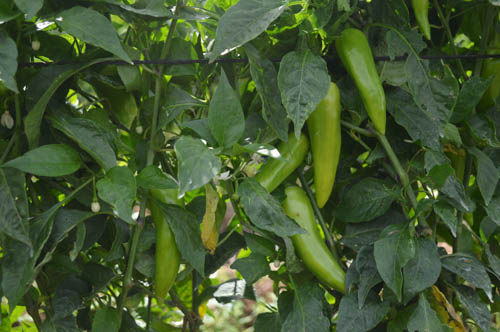ChiliPepper: (282, 189, 347, 288), (337, 27, 392, 131), (303, 82, 343, 212), (154, 174, 184, 304), (249, 134, 308, 195)
